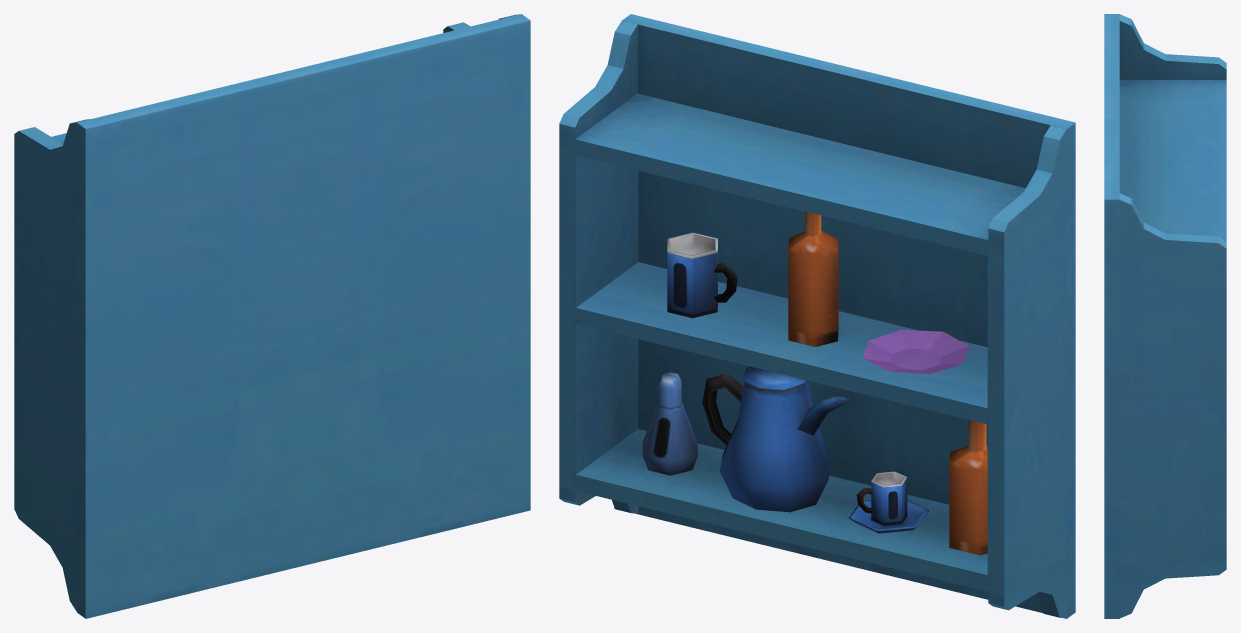
Rendered from furni_0200038_03.FBX.
3 renders of one model, left to right at view 1: azimuth 30°, elevation 25°; view 2: azimuth 150°, elevation 25°; view 3: azimuth 270°, elevation 25°, orthographic. The views are drawn at different scales.
Visible parts, largest first — view 1: furni_0200038; view 2: furni_0200038; view 3: furni_0200038.
Part boxes in pixels (x1,y1,x2,y2): furni_0200038: (14, 14, 530, 618); furni_0200038: (559, 14, 1075, 618); furni_0200038: (1104, 14, 1226, 618).
Size of the model in its own units: 109 by 114 by 30.31.
